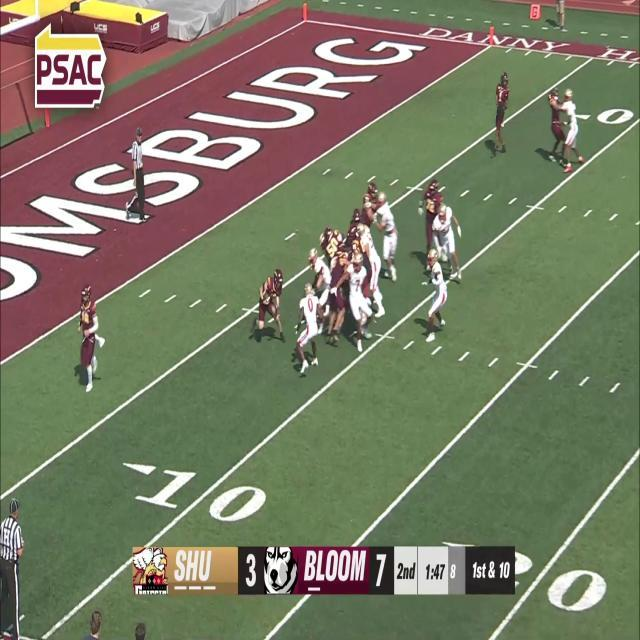football: (262, 290, 271, 303)
